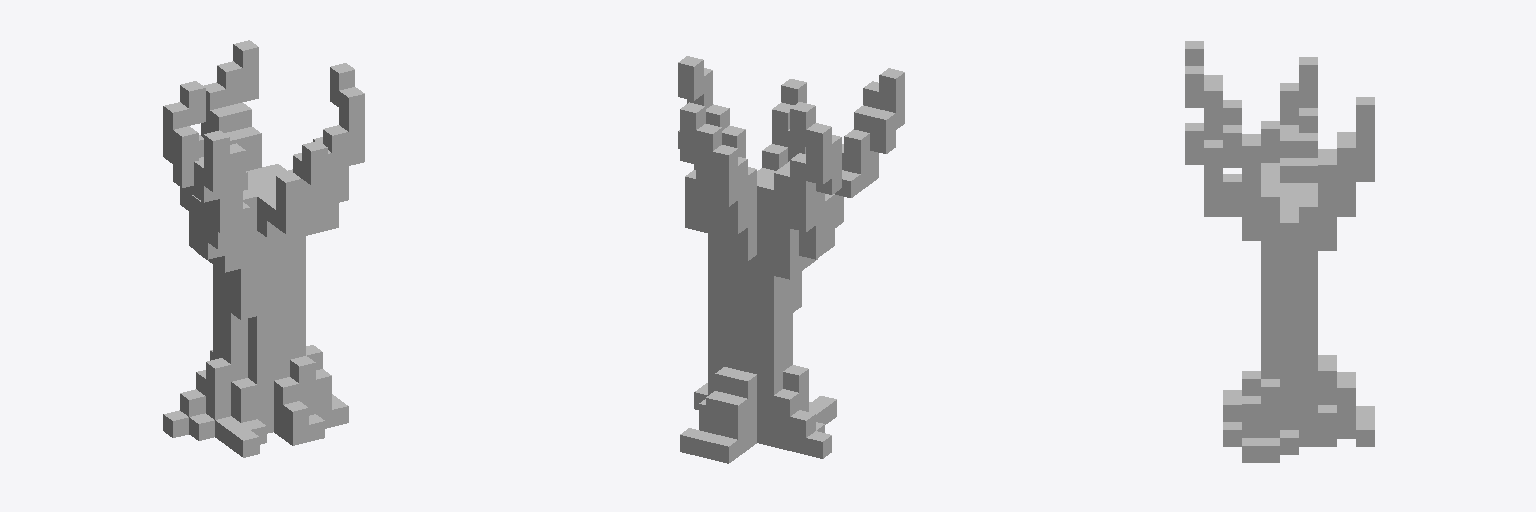
File: tree.obj
The picture shows the model from 3 angles: view 1: azimuth 30°, elevation 25°; view 2: azimuth 150°, elevation 25°; view 3: azimuth 270°, elevation 25°; orthographic projection.
Parts seen in each view (by area): view 1: tree; view 2: tree; view 3: tree.
Part boxes in pixels (x1,y1,x2,y2): tree: (163, 40, 364, 457); tree: (678, 56, 904, 463); tree: (1185, 41, 1374, 462).
Size of the model in its own units: 11 by 20 by 10.